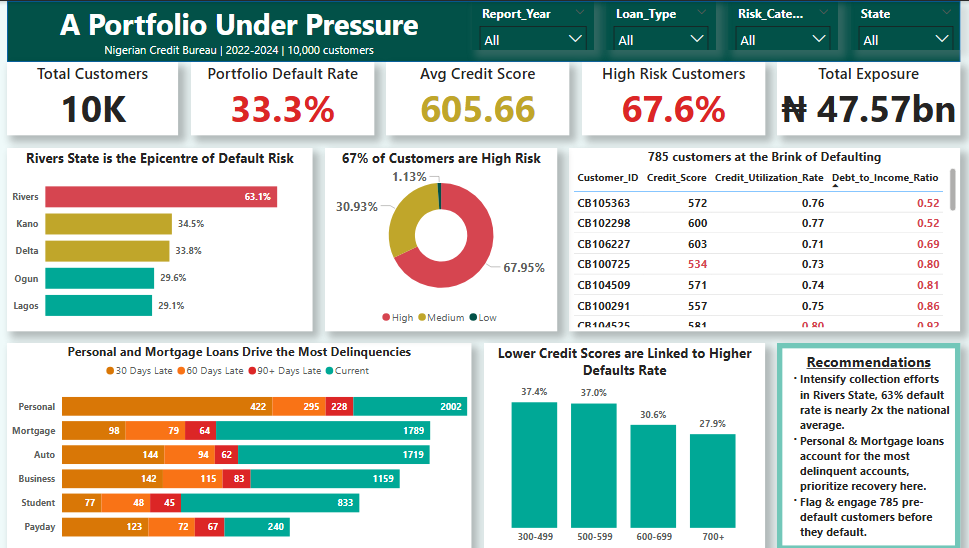

What the dashboard file says about the page in this screenshot:
{"tool":"powerbi","page":{"name":"Page 1","canvas":[1280,720],"ordinal":0},"visuals":[{"type":"shape","box":[16,0,1248,80],"z":0},{"type":"card","title":"Total Customers","fields":{"Values":["Credit_Dataset.Total Customers"]},"box":[16,80,224,96],"z":1000},{"type":"card","title":"Portfolio Default Rate","fields":{"Values":["Credit_Dataset.Default Rate (%)"]},"box":[256,80,240,96],"z":2000},{"type":"card","title":"Avg Credit Score","fields":{"Values":["Credit_Dataset.Avg Credit Score"]},"box":[512,80,240,96],"z":3000},{"type":"card","title":"High Risk Customers","fields":{"Values":["Credit_Dataset.High Risk %"]},"box":[768,80,240,96],"z":4000},{"type":"card","title":"Total Exposure","fields":{"Values":["Credit_Dataset.Total Exposure (NGN)"]},"box":[1024,80,240,96],"z":5000},{"type":"barChart","title":"Rivers State is the Epicentre of Default Risk","fields":{"Category":["Credit_Dataset.State"],"Y":["measureee.Default Rate (%)"]},"box":[16,192,400,240],"z":6000},{"type":"barChart","title":"Personal and Mortgage Loans Drive the Most Delinquencies","fields":{"Category":["Credits.Loan_Type"],"Y":["CountNonNull(Credits.Column 2)"],"Series":["Credits.Delinquency_Status"]},"box":[16,448,608,272],"z":7000},{"type":"tableEx","title":"785 customers at the Brink of Defaulting","fields":{"Values":["Credit_Dataset.Customer_ID","Sum(Credit_Dataset.Credit_Score)","Sum(Credit_Dataset.Credit_Utilization_Rate)","Sum(Credit_Dataset.Debt_to_Income_Ratio)"]},"box":[752,192,512,240],"z":8000},{"type":"donutChart","title":"67% of Customers are High Risk","fields":{"Category":["Credits.Risk_Category"],"Y":["CountNonNull(Credits.Customer_ID)"]},"box":[432,192,304,240],"z":9000},{"type":"slicer","fields":{"Values":["Credit_Dataset.Report_Year"]},"box":[624,0,160,64],"z":10000},{"type":"slicer","fields":{"Values":["Credit_Dataset.Loan_Type"]},"box":[800,0,144,64],"z":11000},{"type":"slicer","fields":{"Values":["Credit_Dataset.Risk_Category"]},"box":[960,0,144,64],"z":12000},{"type":"slicer","fields":{"Values":["Credit_Dataset.State"]},"box":[1120,0,144,64],"z":13000},{"type":"textbox","box":[32,0,576,80],"z":14000},{"type":"clusteredColumnChart","title":"Lower Credit Scores are Linked to Higher Defaults Rate","fields":{"Category":["Credits.Credit Score Band"],"Y":["measureee.Default Rate (%)"]},"box":[640,448,368,272],"z":15000},{"type":"textbox","box":[1024,448,240,272],"z":16000}]}

Visuals, with their boxes in screenshot pixels (x1, y1, x2, y2), scaled from the page's 1280x720 canvas onto the 969x548 screenshot:
shape: 12 0 957 61
"Total Customers" card: 12 61 182 134
"Portfolio Default Rate" card: 194 61 375 134
"Avg Credit Score" card: 388 61 569 134
"High Risk Customers" card: 581 61 763 134
"Total Exposure" card: 775 61 957 134
"Rivers State is the Epicentre of Default Risk" barChart: 12 146 315 329
"Personal and Mortgage Loans Drive the Most Delinquencies" barChart: 12 341 472 547
"785 customers at the Brink of Defaulting" tableEx: 569 146 957 329
"67% of Customers are High Risk" donutChart: 327 146 557 329
slicer - Credit_Dataset.Report_Year: 472 0 594 49
slicer - Credit_Dataset.Loan_Type: 606 0 715 49
slicer - Credit_Dataset.Risk_Category: 727 0 836 49
slicer - Credit_Dataset.State: 848 0 957 49
textbox: 24 0 460 61
"Lower Credit Scores are Linked to Higher Defaults Rate" clusteredColumnChart: 484 341 763 547
textbox: 775 341 957 547
